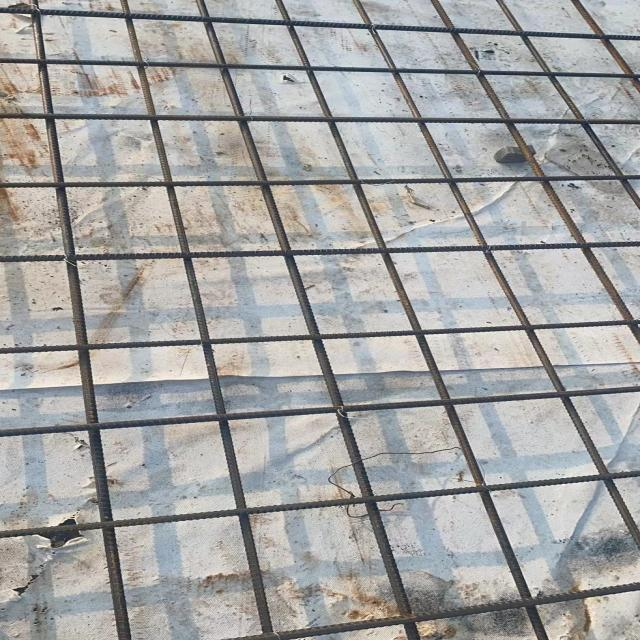ribbed bar: (273, 0, 548, 639), (348, 0, 639, 548), (193, 0, 421, 639), (117, 0, 276, 634), (430, 0, 639, 343), (24, 0, 133, 639), (0, 470, 639, 539), (0, 386, 639, 438), (493, 0, 639, 208), (226, 581, 639, 640), (0, 6, 639, 41), (0, 320, 639, 355), (0, 56, 639, 79), (0, 240, 639, 262), (0, 176, 639, 189), (0, 113, 639, 124), (568, 0, 639, 89)
